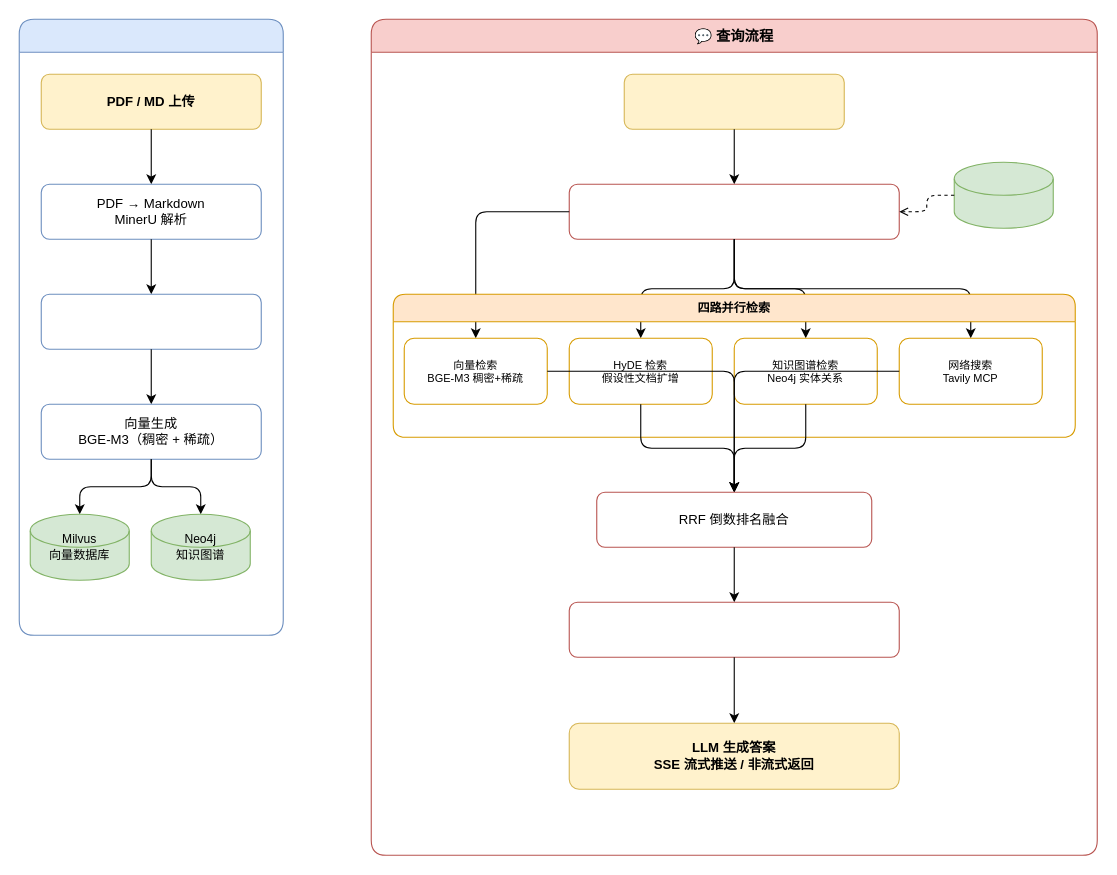
The diagram is 1117 pixels wide and 875 high, and some of its shapes have lost their labels. The box of each missing label's shape, as (x1, y1, x2, y2) in pixels:
BGE-Reranker 重排序 分差截断过滤低相关文档: (568, 601, 899, 657)
MongoDB 历史对话: (953, 161, 1053, 228)
商品名确认 LLM 提取 + Milvus 向量匹配对齐: (568, 183, 899, 239)
图片处理 & 文档切分: (40, 293, 261, 349)
用户提问: (623, 73, 844, 129)
📥 文档导入流程: (18, 18, 283, 635)
